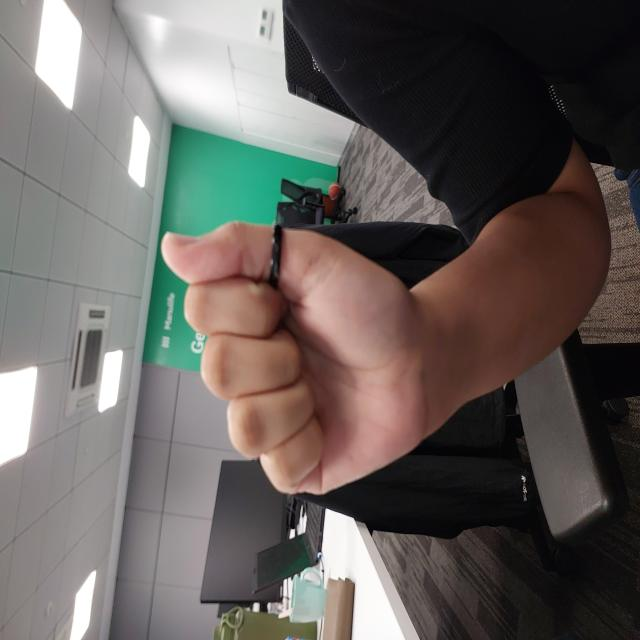A: (142, 156, 421, 429)
